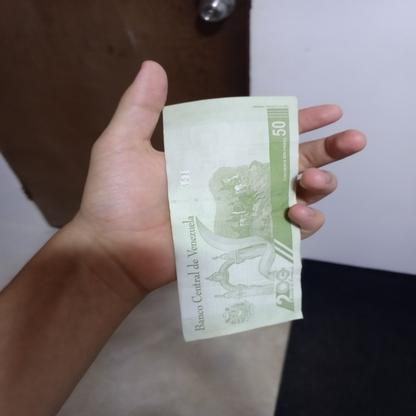fifty-back-vef: (162, 94, 303, 342)
